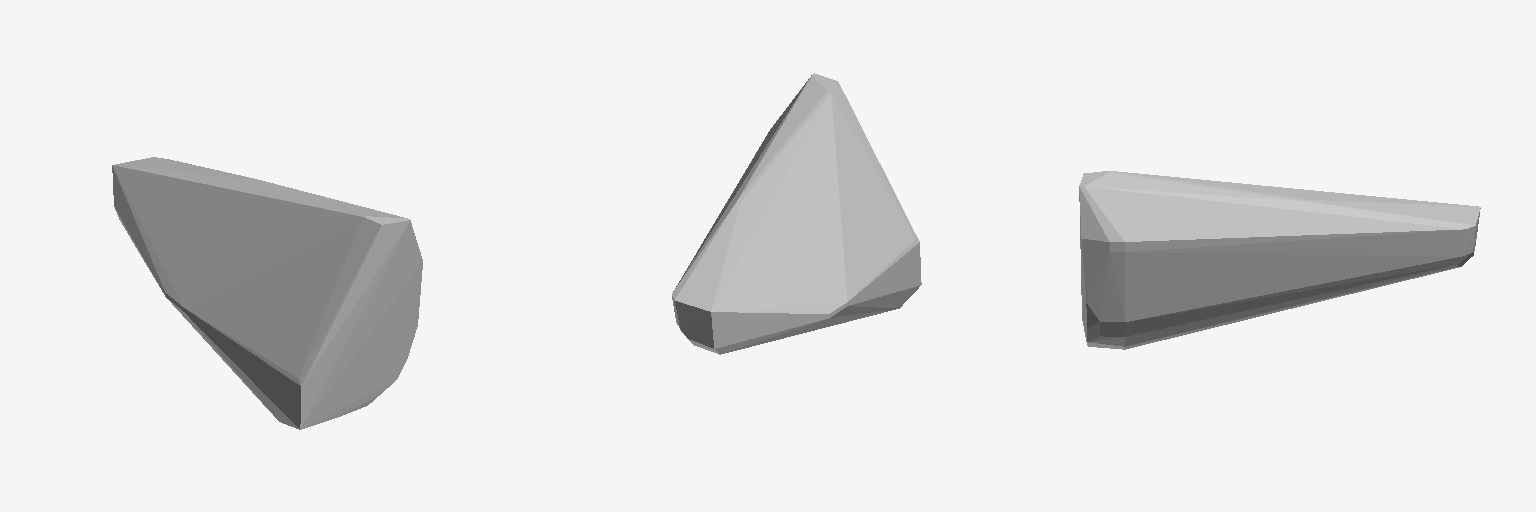
Rendered from ToteA.L005.obj.
3 views of the same model, side by side, from view 1: azimuth 30°, elevation 25°; view 2: azimuth 150°, elevation 25°; view 3: azimuth 270°, elevation 25° (orthographic).
Size of the model in its own units: 0.0754 by 0.0913 by 0.173.